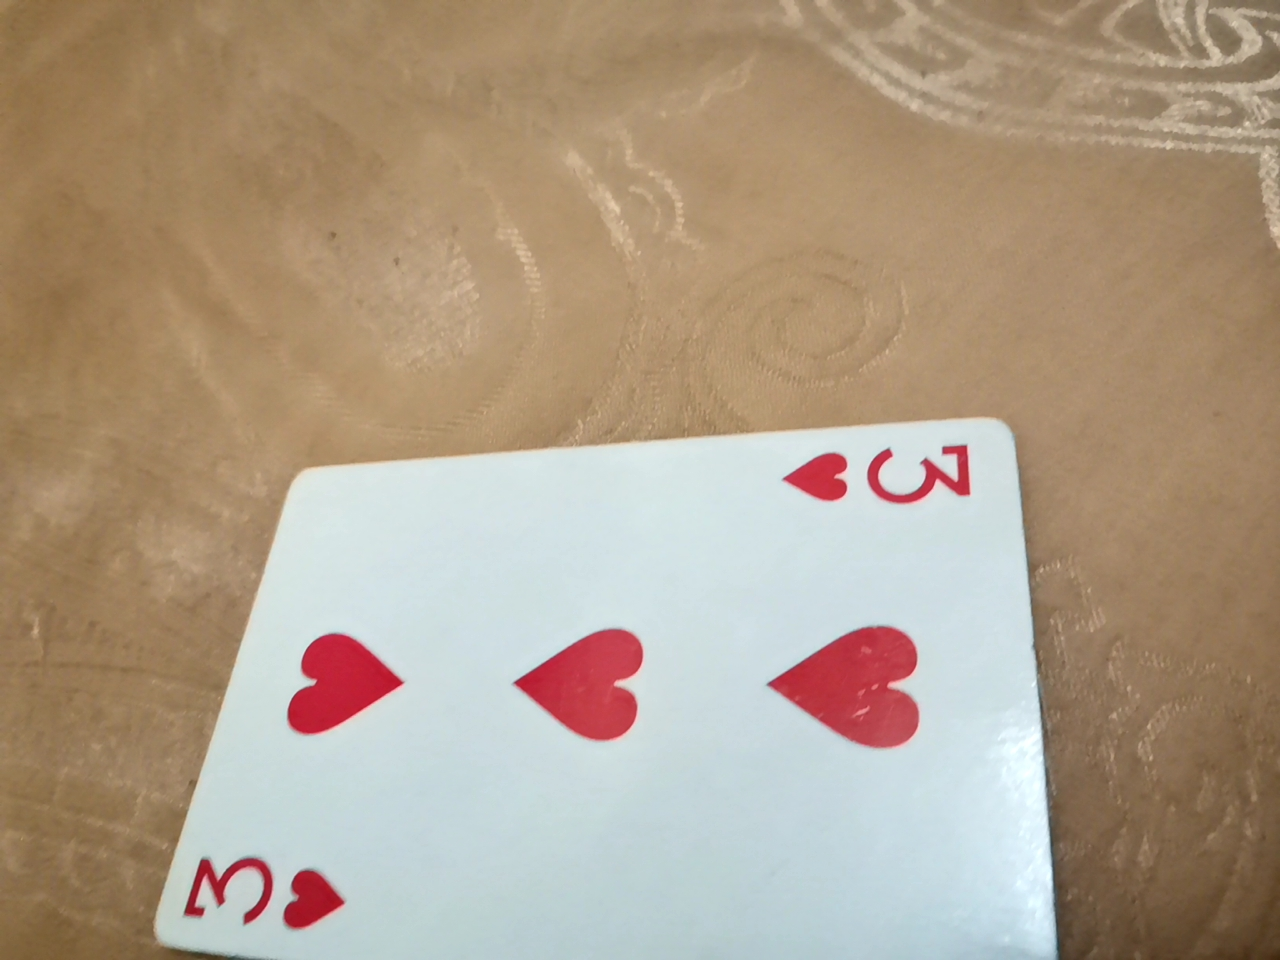hx 3: (127, 467, 1031, 951)
